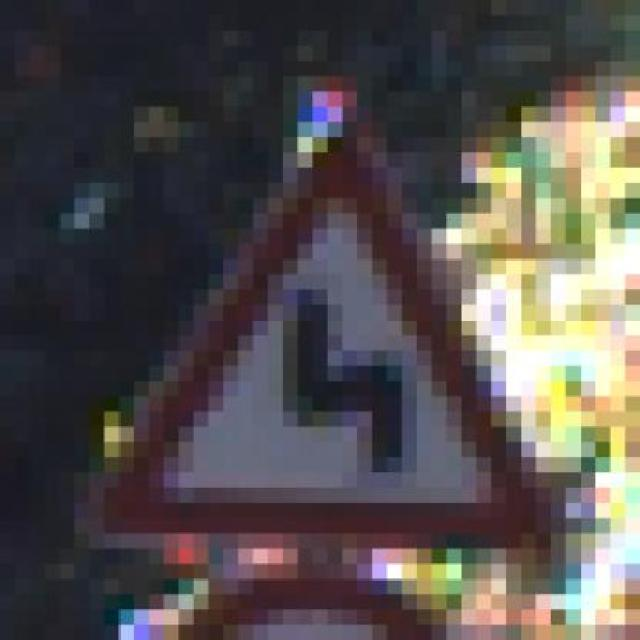Left Zig Zag Traffic: (59, 76, 566, 549)
